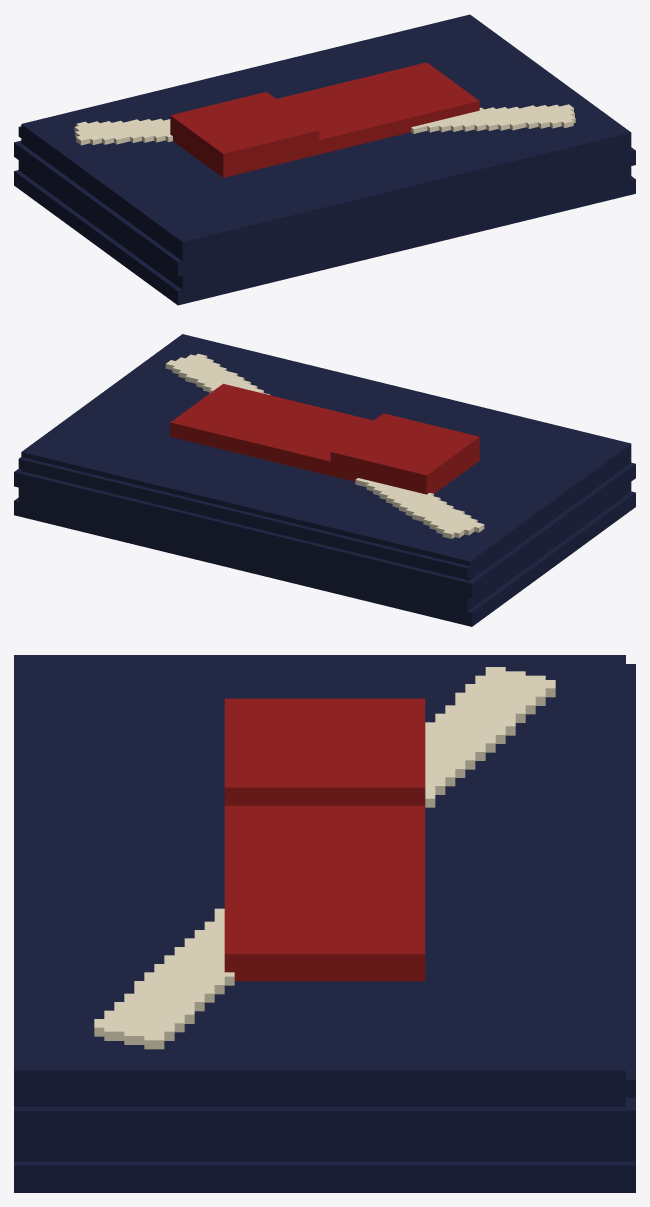
File: kimono.glb
3 renders of one model, top to bottom at view 1: azimuth 30°, elevation 25°; view 2: azimuth 150°, elevation 25°; view 3: azimuth 270°, elevation 25°, orthographic. The views are drawn at different scales.
Parts seen in each view (by area): view 1: kimono:compound; view 2: kimono:compound; view 3: kimono:compound.
Boxes of the visible parts, <box> form: kimono:compound: <box>14,14,635,305</box>; kimono:compound: <box>14,334,635,626</box>; kimono:compound: <box>14,655,635,1192</box>.
Bounding box in the file's own units: 0.4 × 0.072 × 0.248.
